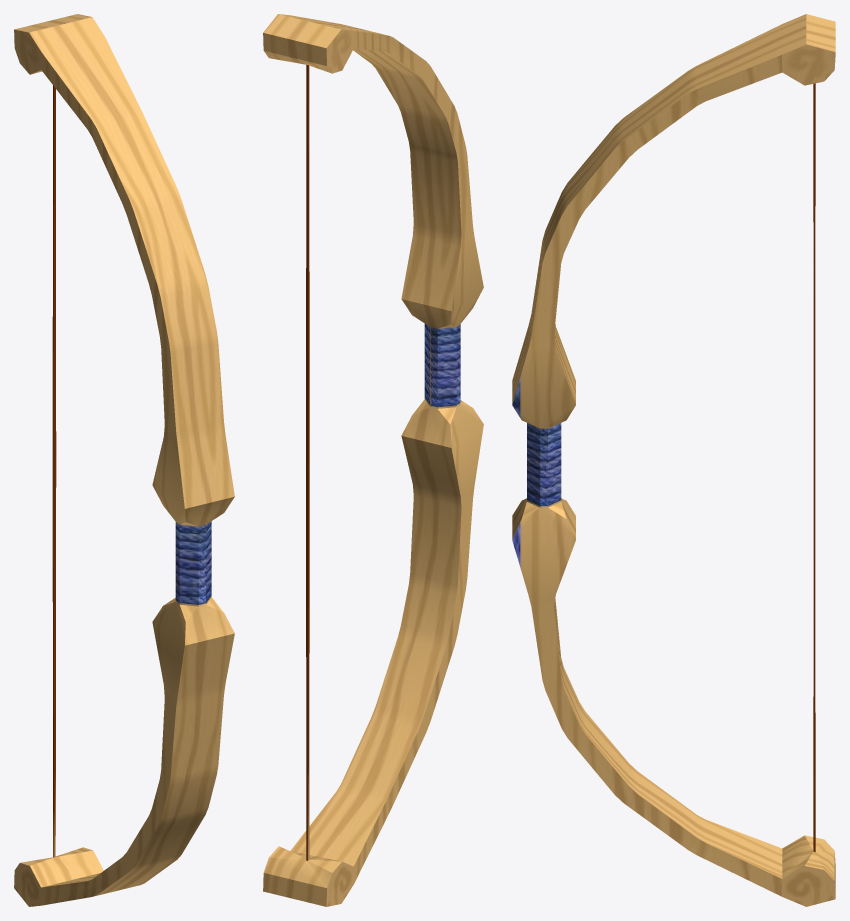
The model's file is Bow.FBX.
3 views of the same model, side by side, from view 1: azimuth 30°, elevation 25°; view 2: azimuth 150°, elevation 25°; view 3: azimuth 270°, elevation 25° (orthographic).
Visible parts, largest first — view 1: Bow; view 2: Bow; view 3: Bow.
Boxes of the visible parts, x1,y1,x2,y2 form: Bow: (14, 14, 234, 906); Bow: (263, 14, 483, 906); Bow: (512, 14, 835, 906).
Bounding box in the file's own units: 22.44 × 295 × 100.
